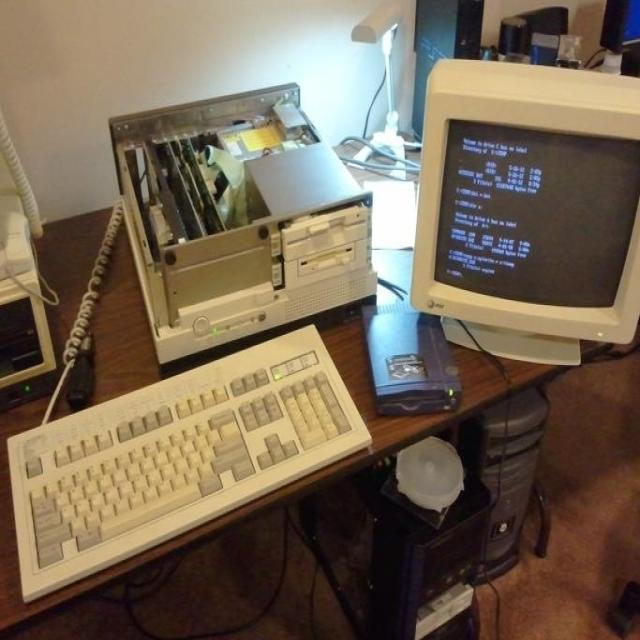E-waste: (0, 75, 380, 590), (406, 46, 640, 379)
